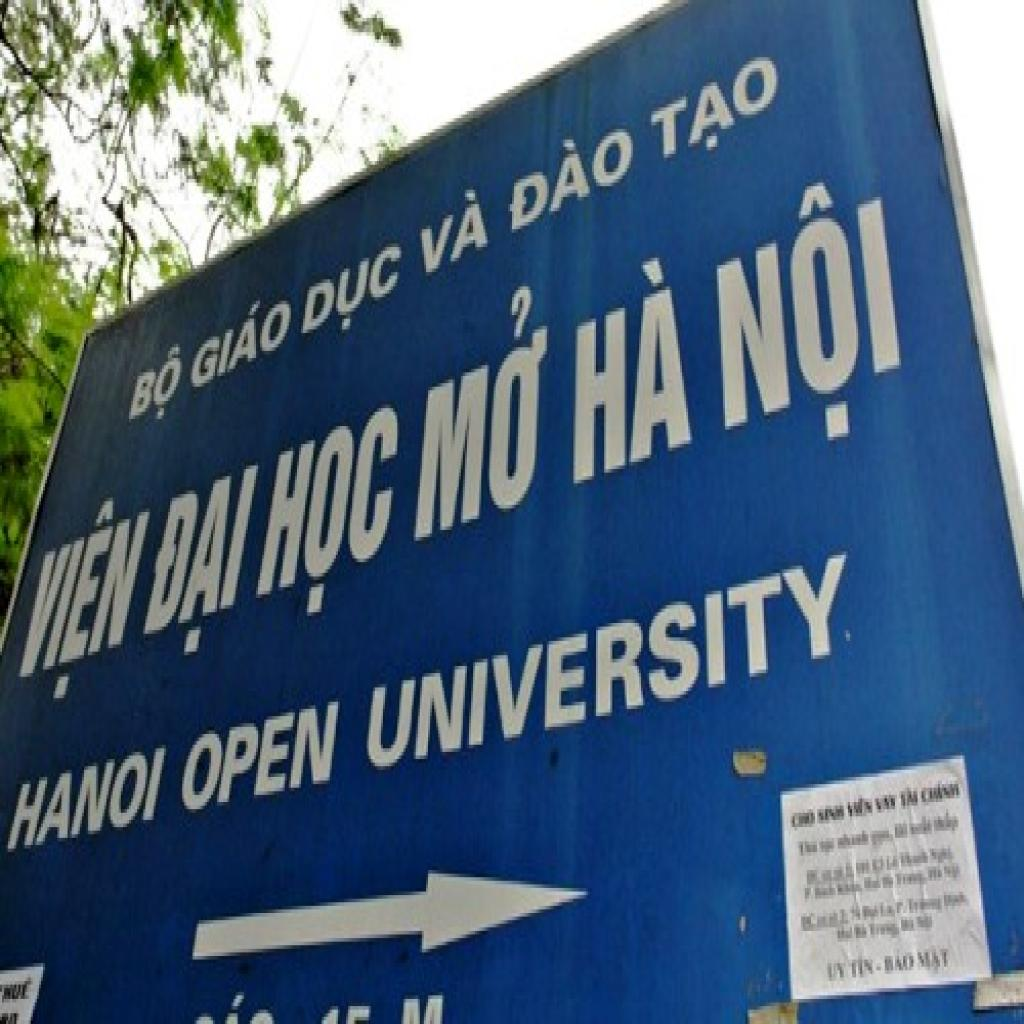text: (363, 544, 854, 784), (710, 150, 918, 484), (410, 268, 557, 555), (246, 387, 412, 641), (6, 480, 160, 723), (572, 250, 698, 498), (133, 458, 264, 677), (172, 695, 348, 827), (0, 738, 172, 866), (650, 40, 784, 186), (508, 111, 639, 243), (295, 236, 407, 366), (184, 283, 299, 401), (416, 182, 494, 283), (125, 336, 192, 440), (916, 942, 954, 981), (882, 949, 918, 977), (848, 956, 876, 985), (825, 960, 850, 988)
